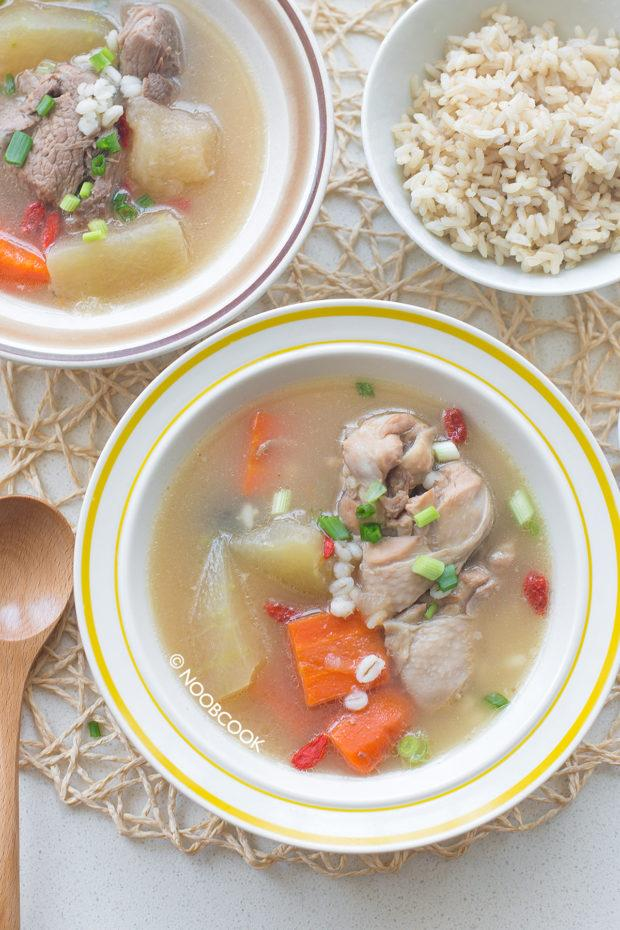Braised Crucian Carp: (70, 307, 609, 843), (2, 5, 324, 352), (360, 4, 612, 294)
